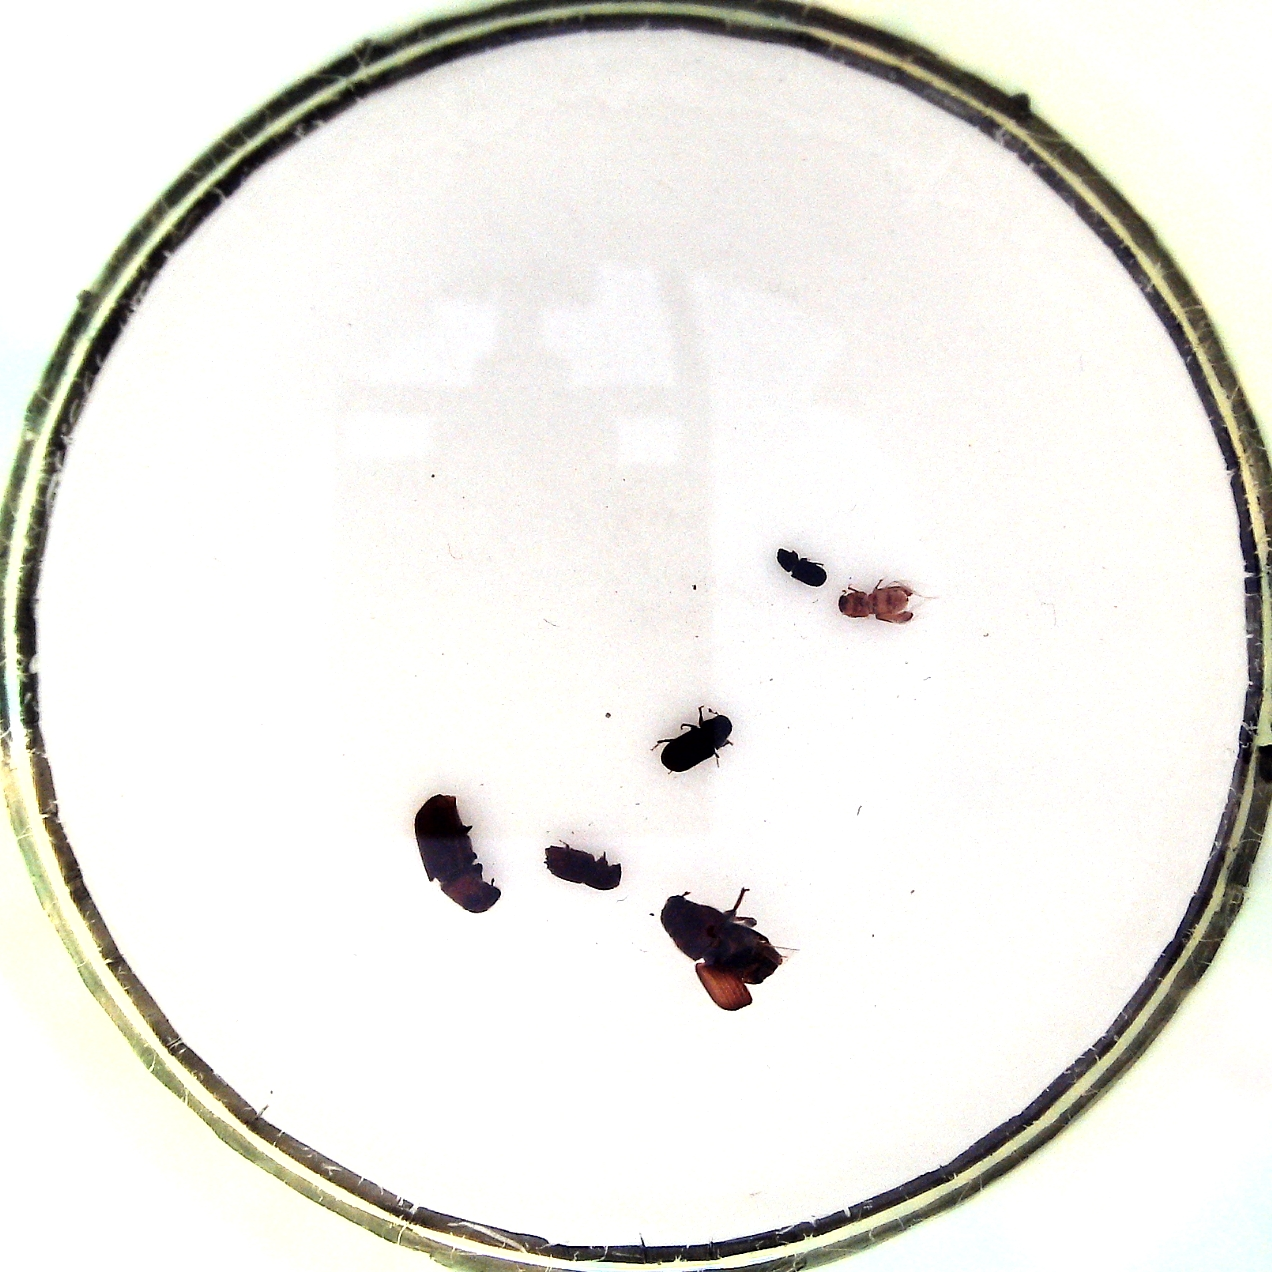Leconte: (659, 888, 794, 1013), (412, 791, 507, 916)
Linnaeus: (538, 840, 626, 893)
acuminatus: (831, 578, 916, 633)
armandi: (651, 704, 736, 776)
coleoptera: (772, 542, 828, 594)
